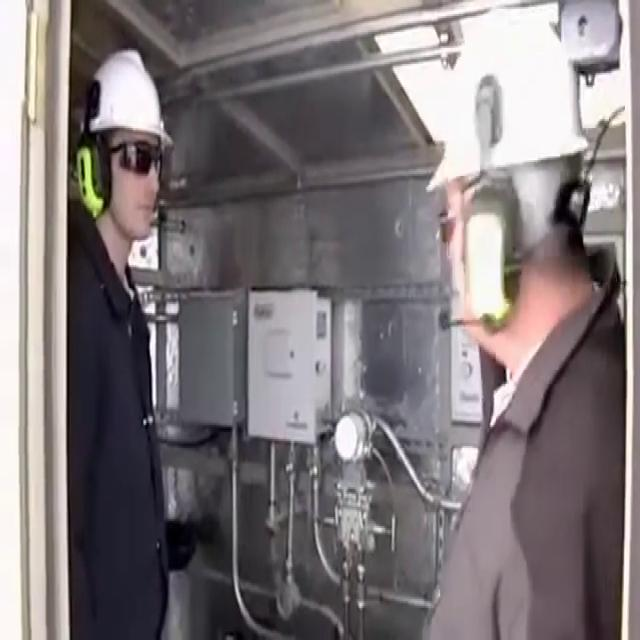earmuff: (458, 176, 526, 342), (74, 124, 117, 223)
glasses: (106, 134, 166, 179)
helmet: (423, 4, 591, 199), (82, 43, 177, 159)
